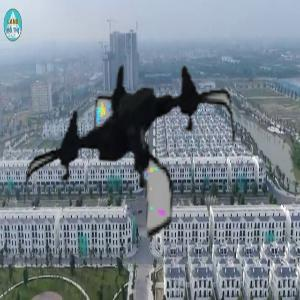drone: (28, 39, 238, 249)
